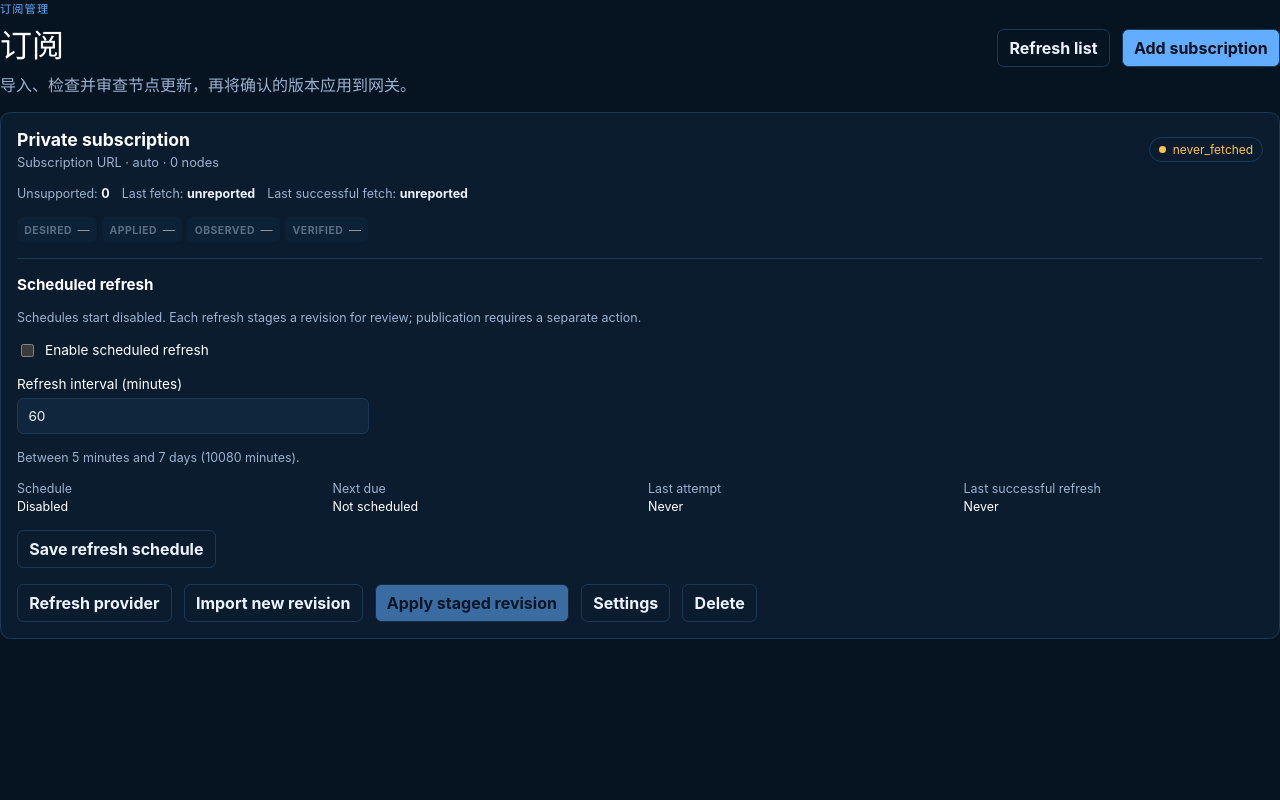
Test: provider settings and deletion › omits an empty replacement source and binds settings edits to the inventory revision without staging
Click the button "Settings" at (626, 603), box x1=581 y1=584 x2=670 y2=622
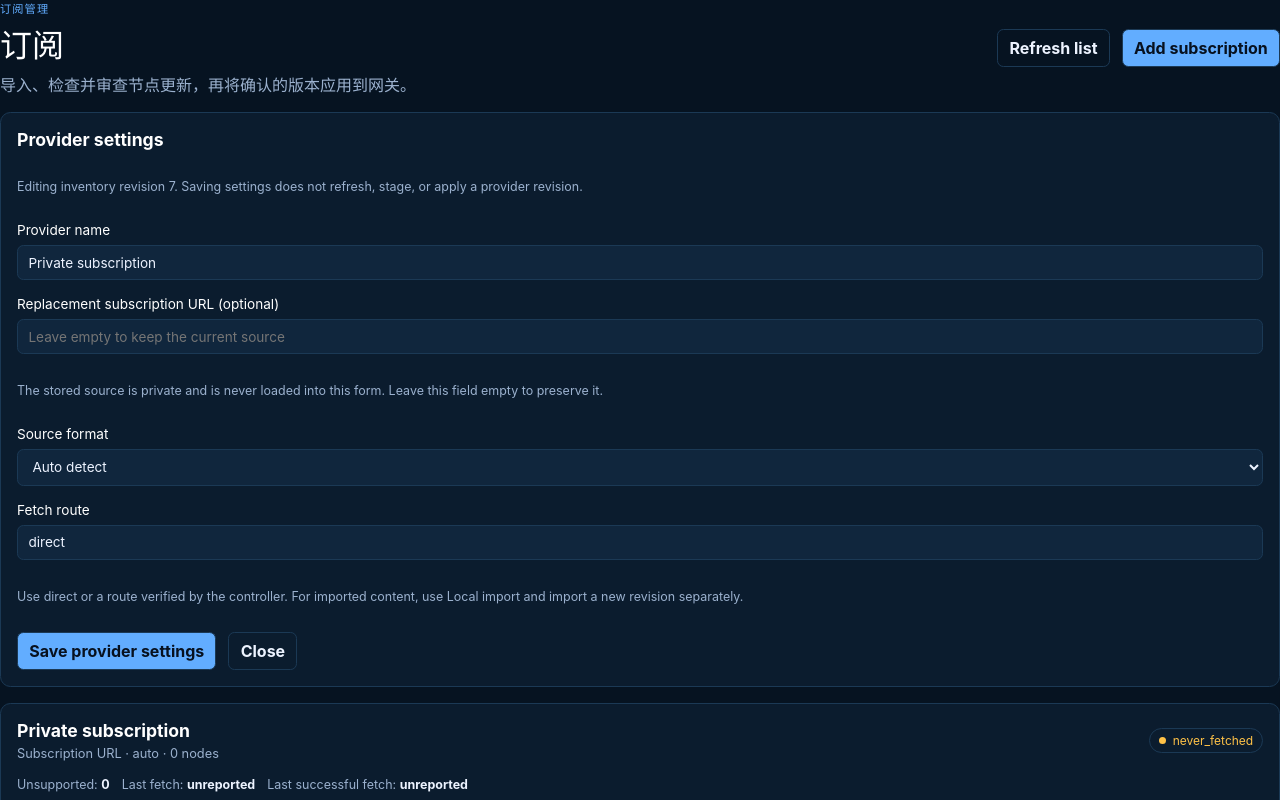
Expected: the password field labelled "Replacement subscription URL (optional)" is empty, x1=17 y1=319 x2=1263 y2=354
Expected: the form named "Provider settings" shows "Saving settings does not refresh, stage, or apply", x1=17 y1=179 x2=583 y2=194
Replace the text in the field labelled "Provider name" with "Updated name" at (640, 262), box x1=17 y1=245 x2=1263 y2=280
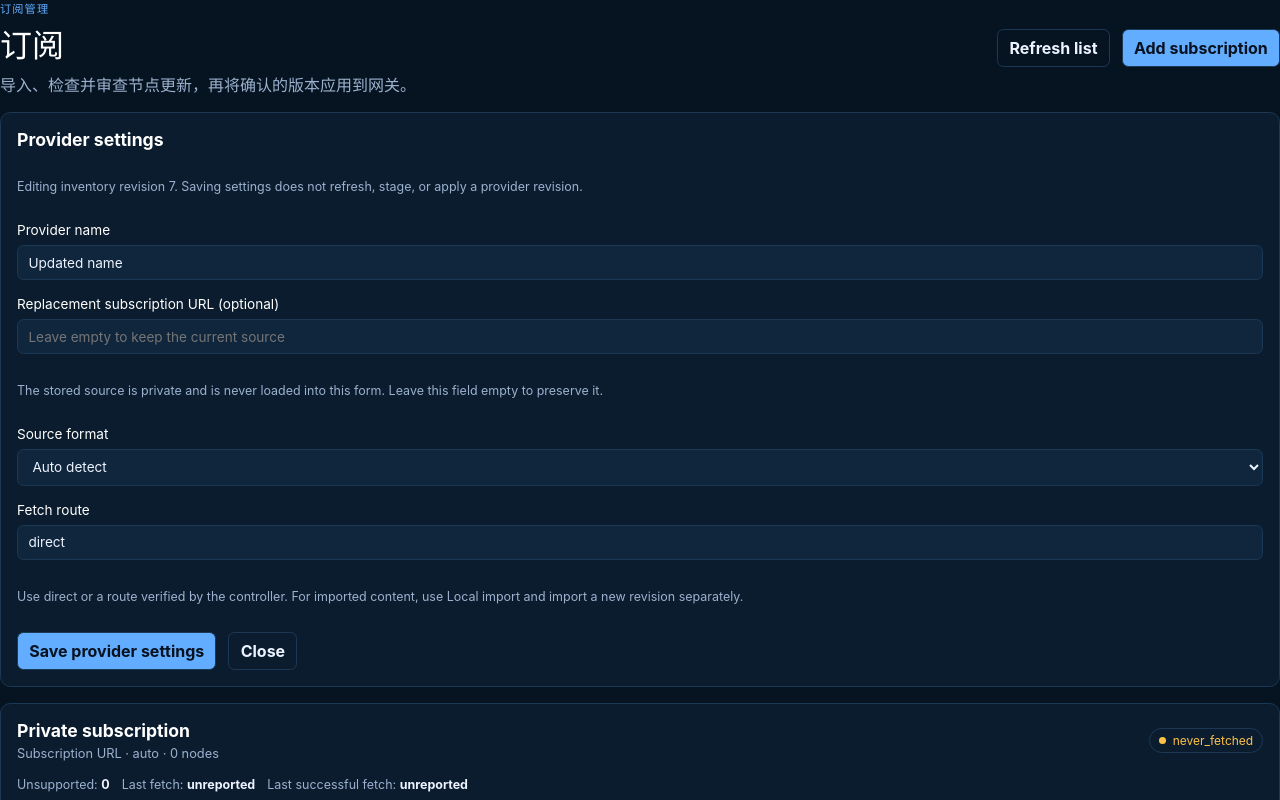
Submit the form named "Provider settings"
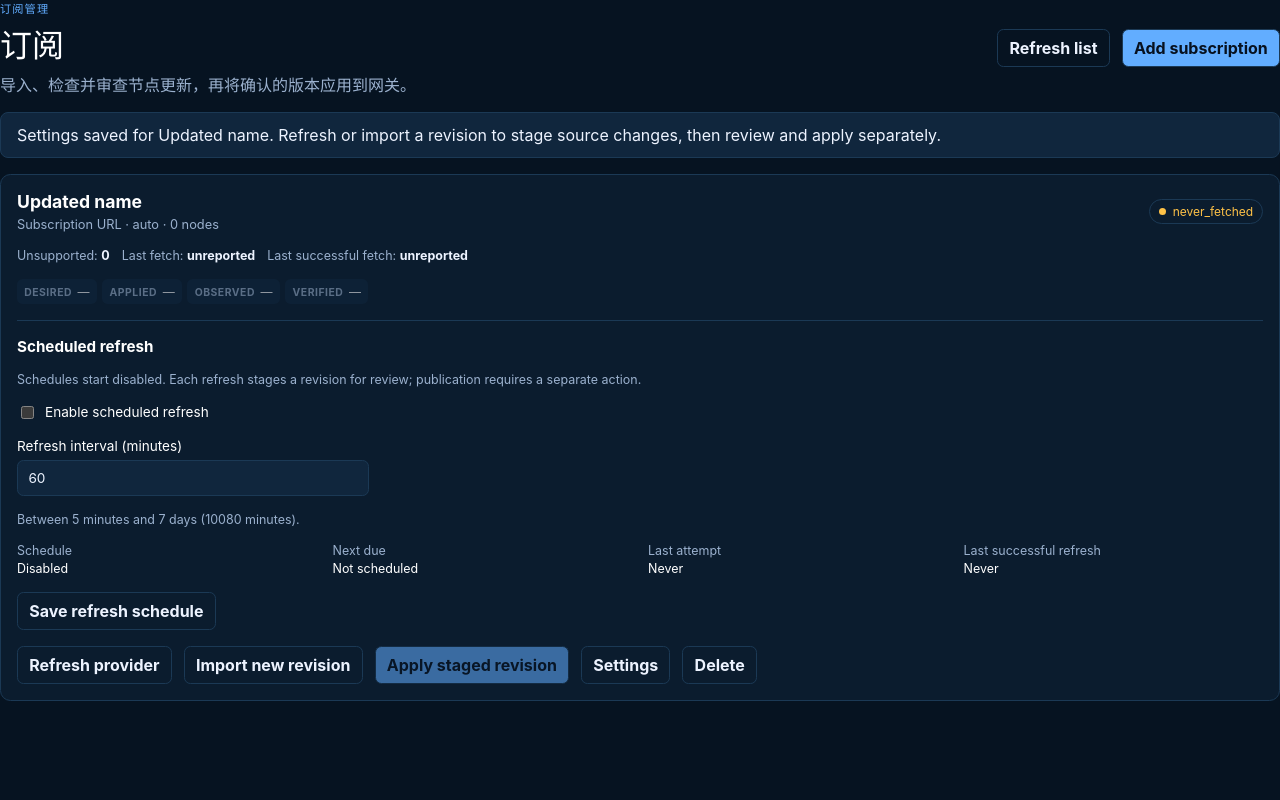
Expected: the text "Settings saved for Updated name" is shown, x1=17 y1=125 x2=941 y2=145
